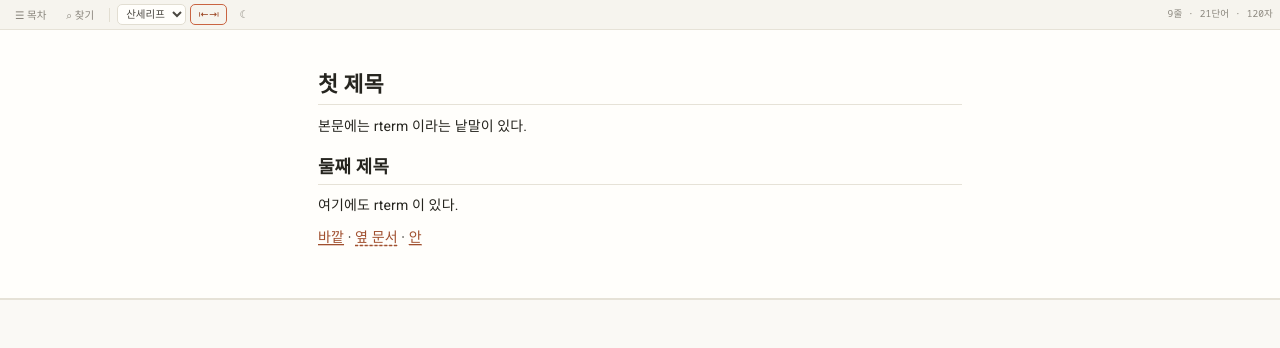
Scenario: 문서 안에서 찾기 › 닫으면 표시가 본문에서 사라진다
Click the button "⌕ 찾기" at (80, 14), box [58,4,102,25]
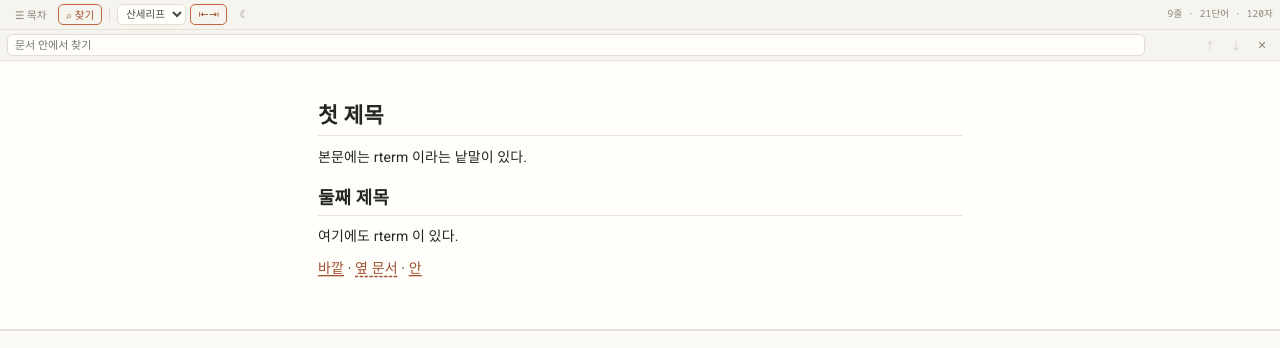
Type "rterm" into the field with class "md-find__input" at (576, 45), box [7,34,1145,56]
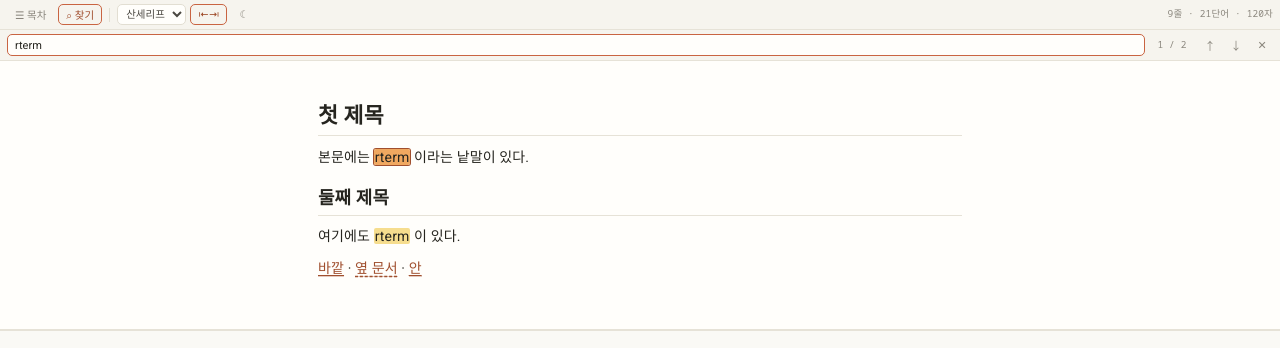
Expected: the number of elements with class "md-hit" is 2, [374,149,410,165]; [374,228,410,244]
Press Escape in the field with class "md-find__input", box [7,34,1145,56]
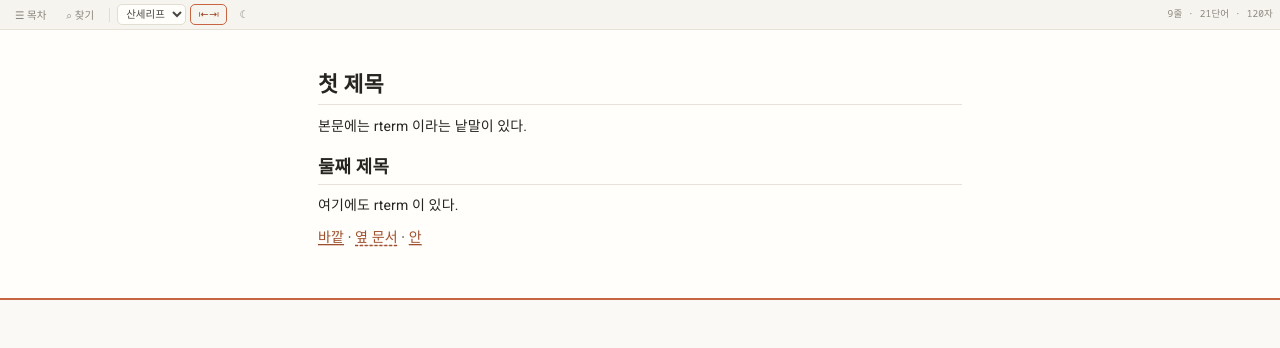
Expected: no elements with class "md-hit" are shown
